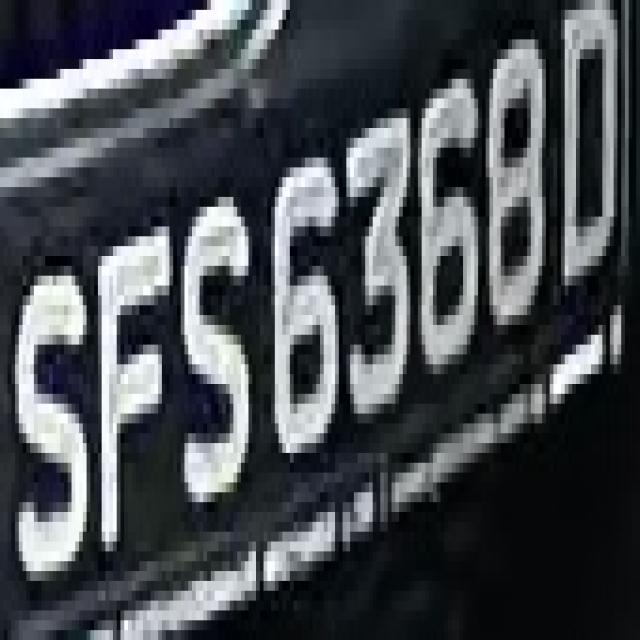3: (335, 79, 422, 443)
6: (263, 128, 339, 473), (410, 39, 474, 374)
8: (474, 30, 558, 384)
D: (568, 20, 625, 325)
F: (86, 197, 180, 581)
S: (166, 177, 260, 512), (18, 246, 86, 601)
